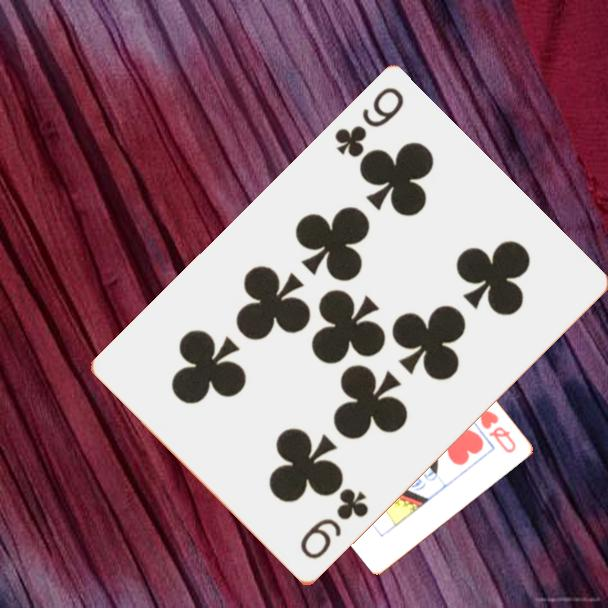c09: (296, 485, 372, 563), (331, 84, 407, 161)
h12: (476, 404, 519, 456)
